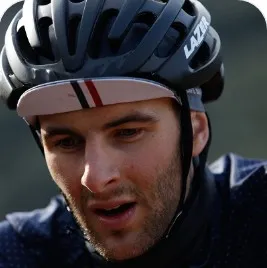helmet: (1, 1, 225, 261)
